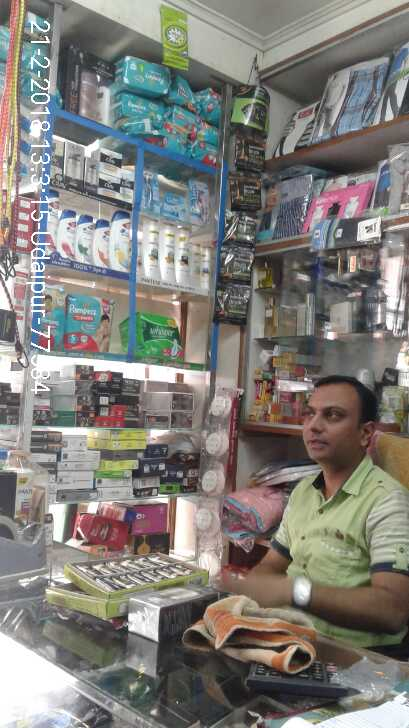venus: (187, 181, 209, 222), (159, 191, 187, 222), (141, 170, 157, 211)
